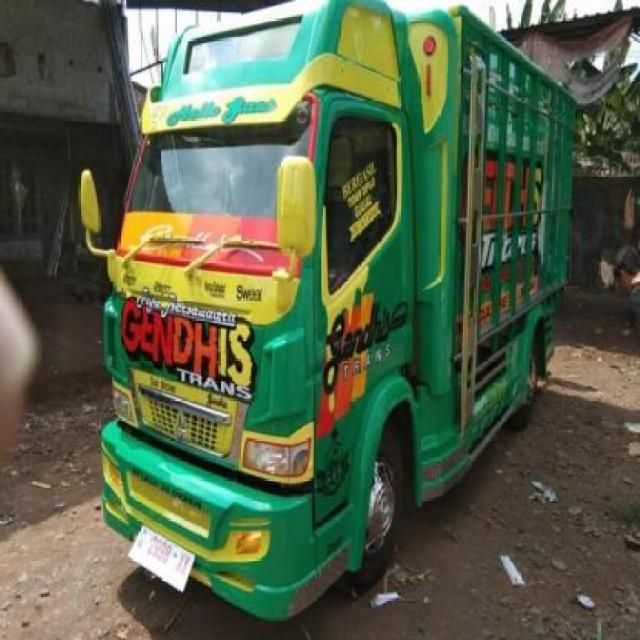truck: (77, 1, 579, 629)
